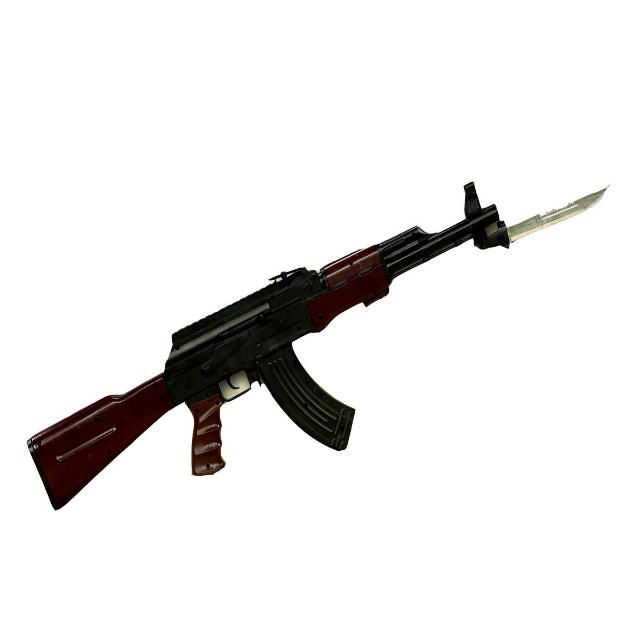rifle: (15, 170, 499, 540), (499, 182, 613, 258)
